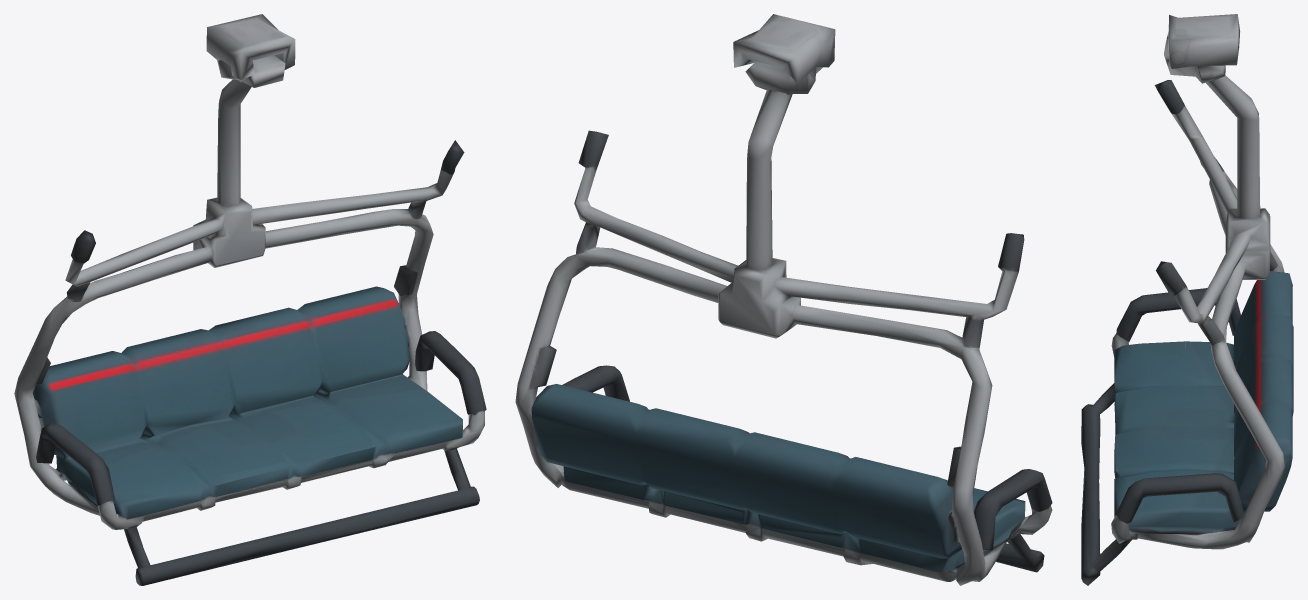
Rendered from chair.glb.
3 views of the same model, side by side, from view 1: azimuth 30°, elevation 25°; view 2: azimuth 150°, elevation 25°; view 3: azimuth 270°, elevation 25° (orthographic). The views are drawn at different scales.
Visible parts, largest first — view 1: tripo_node_2f83fcae-1605-431d-9909-05349c464629; view 2: tripo_node_2f83fcae-1605-431d-9909-05349c464629; view 3: tripo_node_2f83fcae-1605-431d-9909-05349c464629.
Part boxes in pixels (bbox=[...]): tripo_node_2f83fcae-1605-431d-9909-05349c464629: bbox=[14, 14, 486, 585]; tripo_node_2f83fcae-1605-431d-9909-05349c464629: bbox=[515, 14, 1052, 585]; tripo_node_2f83fcae-1605-431d-9909-05349c464629: bbox=[1081, 14, 1293, 585].
Bounding box in the file's own units: 0.879 × 0.9994 × 0.4025.
Materials: 1 (1 with a texture image).
